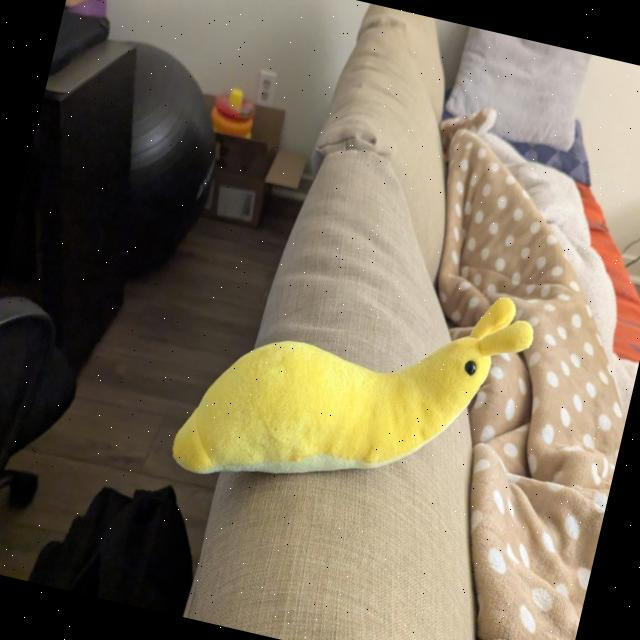banana-slug-toy: (162, 224, 554, 548)
